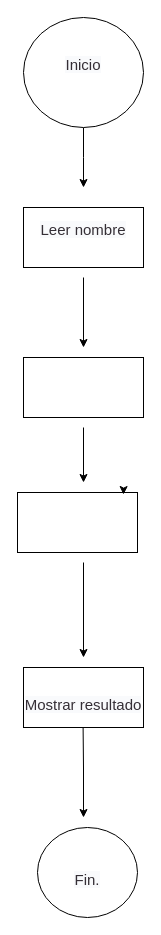
The diagram is 161 pixels wide and 935 high, and some of its shapes have lost their labels. The centre of each missing label's shape, as x and y in pixels:
"Calcular costo tota" belongs at point 77,522.
"precio y cantidad" belongs at point 83,387.
